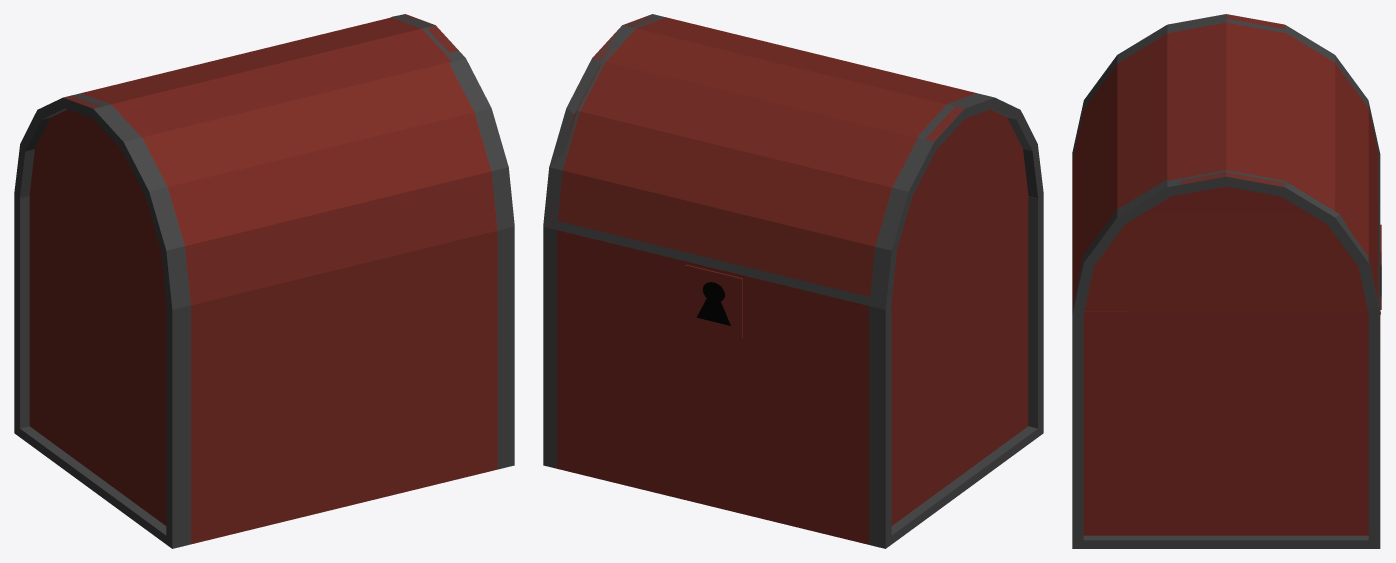
The model's file is SodmentNieUmiewModeleChest.fbx.
3 views of the same model, side by side, from view 1: azimuth 30°, elevation 25°; view 2: azimuth 150°, elevation 25°; view 3: azimuth 270°, elevation 25° (orthographic). The views are drawn at different scales.
Visible parts, largest first — view 1: Top; view 2: Top; view 3: Top.
Boxes of the visible parts, x1,y1,x2,y2 form: Top: [14, 14, 514, 548]; Top: [543, 14, 1043, 548]; Top: [1072, 14, 1381, 548].
Size of the model in its own units: 300 by 320 by 241.
